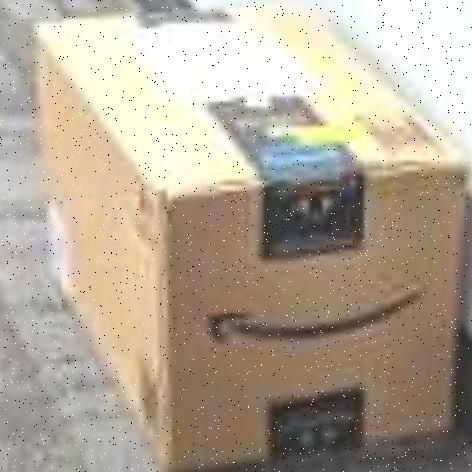Amazon: (29, 27, 467, 432)
